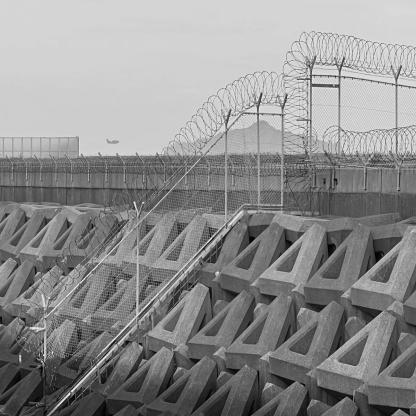US2: (107, 140, 121, 145)
